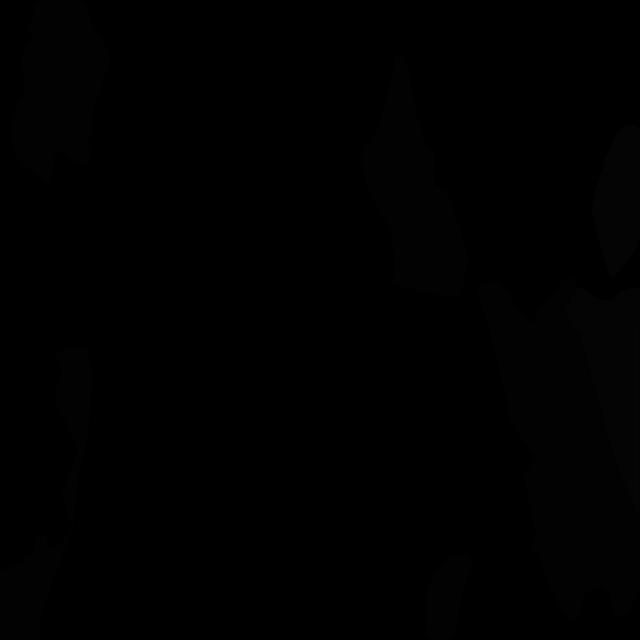cardboard: (477, 276, 640, 620), (0, 347, 92, 640), (359, 54, 468, 297), (10, 0, 110, 186), (425, 553, 473, 640)
soft_plastic: (565, 287, 640, 521), (592, 125, 640, 279)
